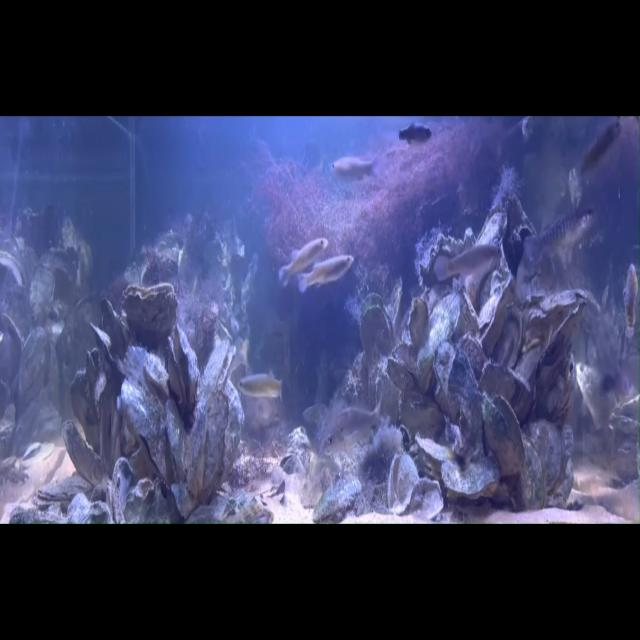Oyster- Indeterminate: (483, 181, 545, 269)
Oyster-Closed: (102, 371, 201, 484), (400, 286, 471, 385), (432, 340, 484, 444), (468, 262, 520, 358), (470, 354, 543, 422), (48, 417, 112, 489), (114, 341, 184, 403), (306, 469, 369, 535), (523, 416, 573, 493), (64, 368, 106, 456), (29, 469, 98, 521), (536, 344, 575, 427), (401, 431, 458, 486), (186, 490, 273, 526), (17, 326, 51, 413), (490, 302, 530, 370), (92, 297, 130, 363), (441, 458, 500, 500), (103, 456, 138, 524), (23, 262, 59, 326), (99, 373, 121, 473), (400, 393, 445, 439), (224, 380, 244, 473), (519, 438, 545, 509), (166, 398, 186, 479), (139, 352, 171, 402), (280, 427, 310, 476), (454, 287, 479, 341), (90, 321, 116, 359)
Oyster-Open: (182, 385, 231, 500), (476, 388, 529, 479), (351, 290, 399, 363), (124, 282, 178, 344), (168, 324, 199, 424), (123, 477, 181, 525), (544, 289, 588, 348), (139, 229, 181, 289), (404, 474, 451, 526), (201, 337, 237, 397), (388, 453, 419, 514), (385, 341, 419, 393), (0, 249, 28, 301), (407, 297, 431, 344), (230, 338, 248, 389)
